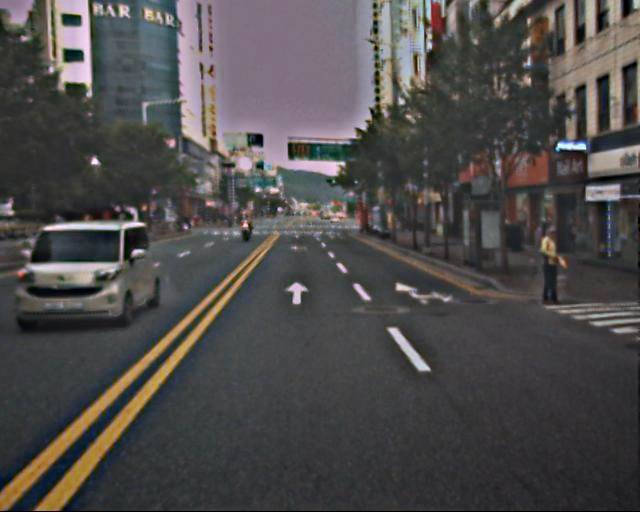person: (531, 228, 570, 310)
